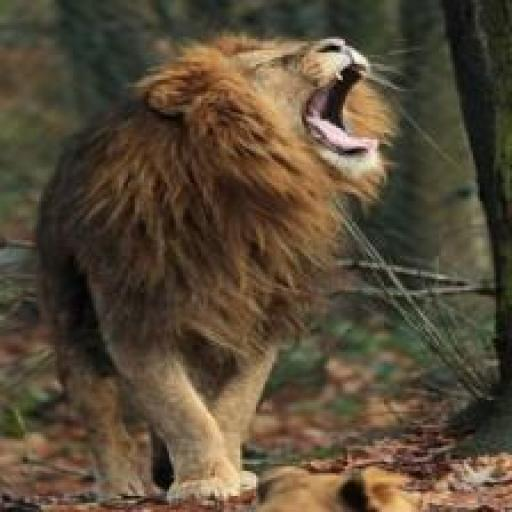lion: (96, 30, 418, 243)
